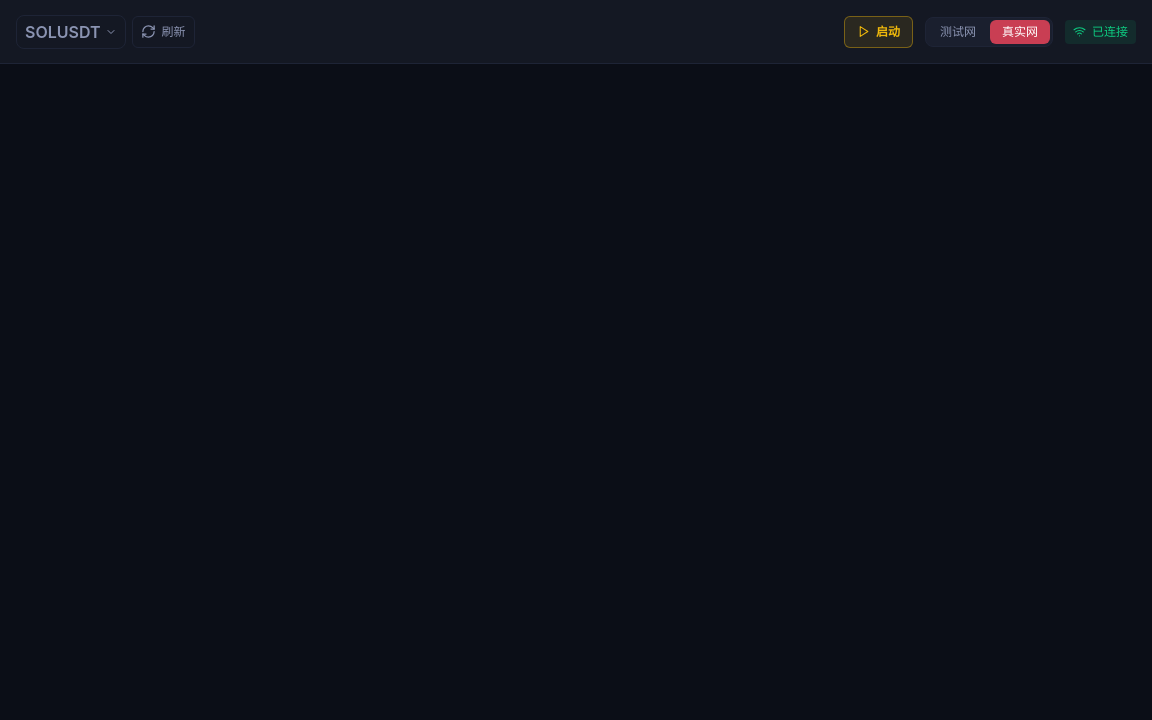
Scenario: Header network controls › requires the exact symbol-scoped confirmation on mainnet
Click the button with aria-label "启动策略" at x=878, y=32, box [844,16,913,48]
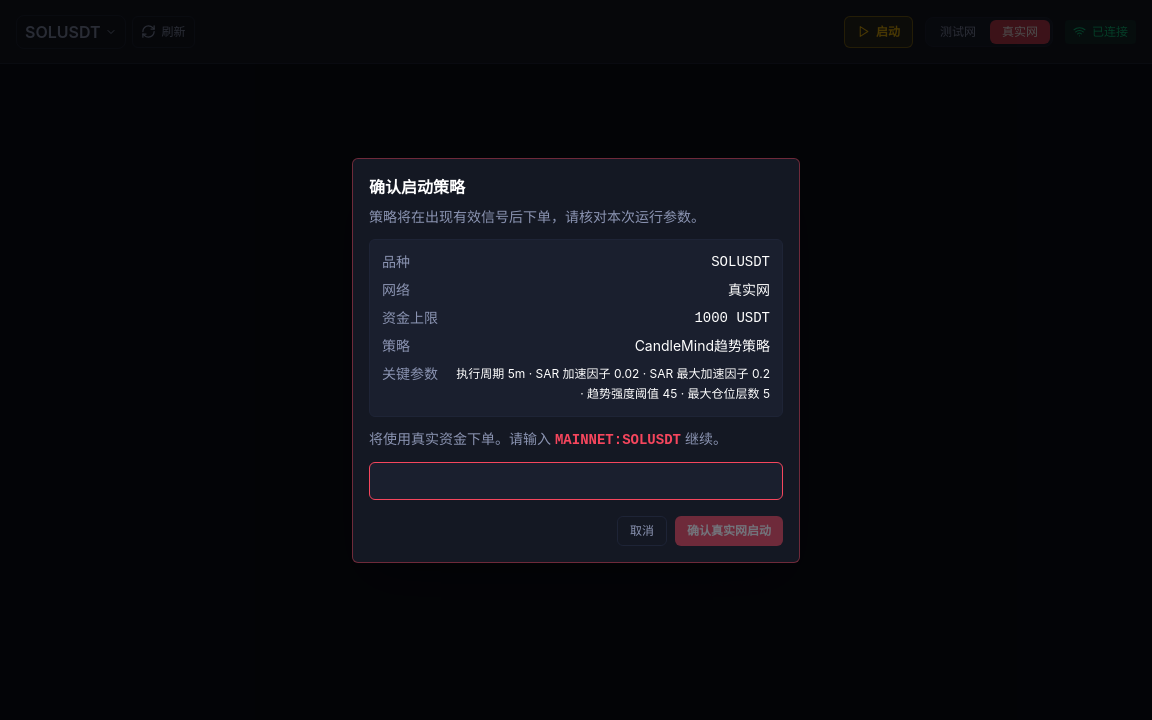
Type "MAINNET:BTCUSDT" into the field named "真实网确认文本" at x=576, y=480, box [369,462,783,500]
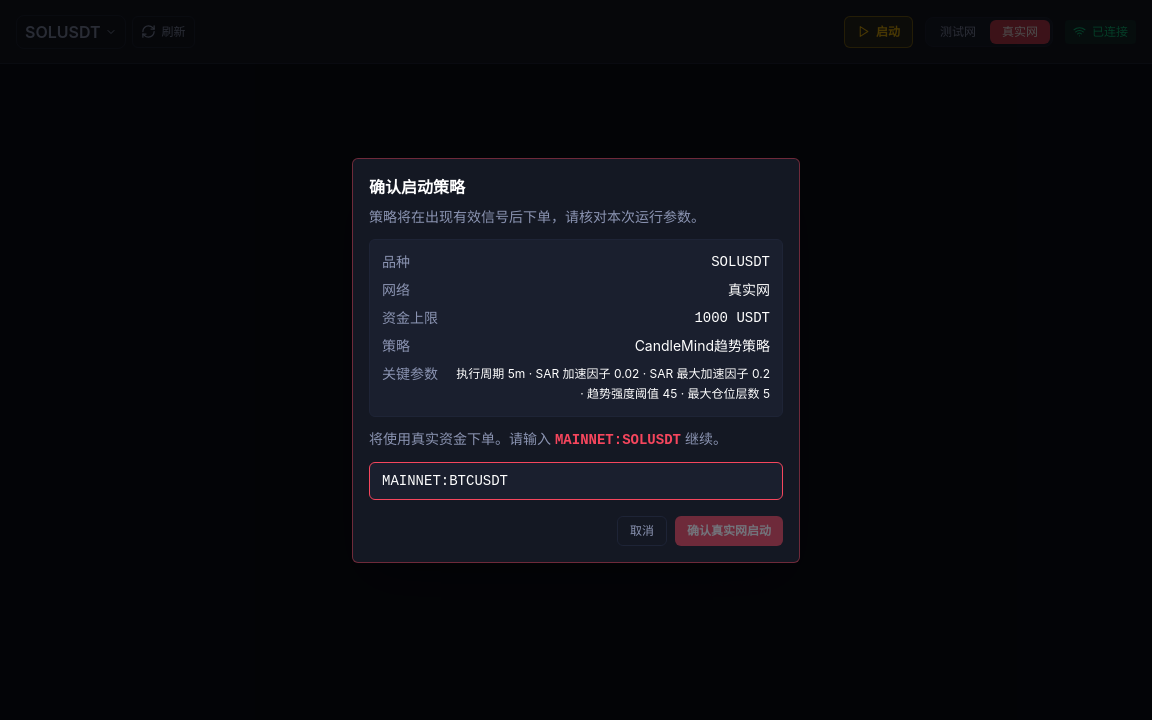
Expected: the button "确认真实网启动" is disabled, [675,516,783,546]
Replace the text in the field named "真实网确认文本" with "MAINNET:SOLUSDT" at x=576, y=480, box [369,462,783,500]
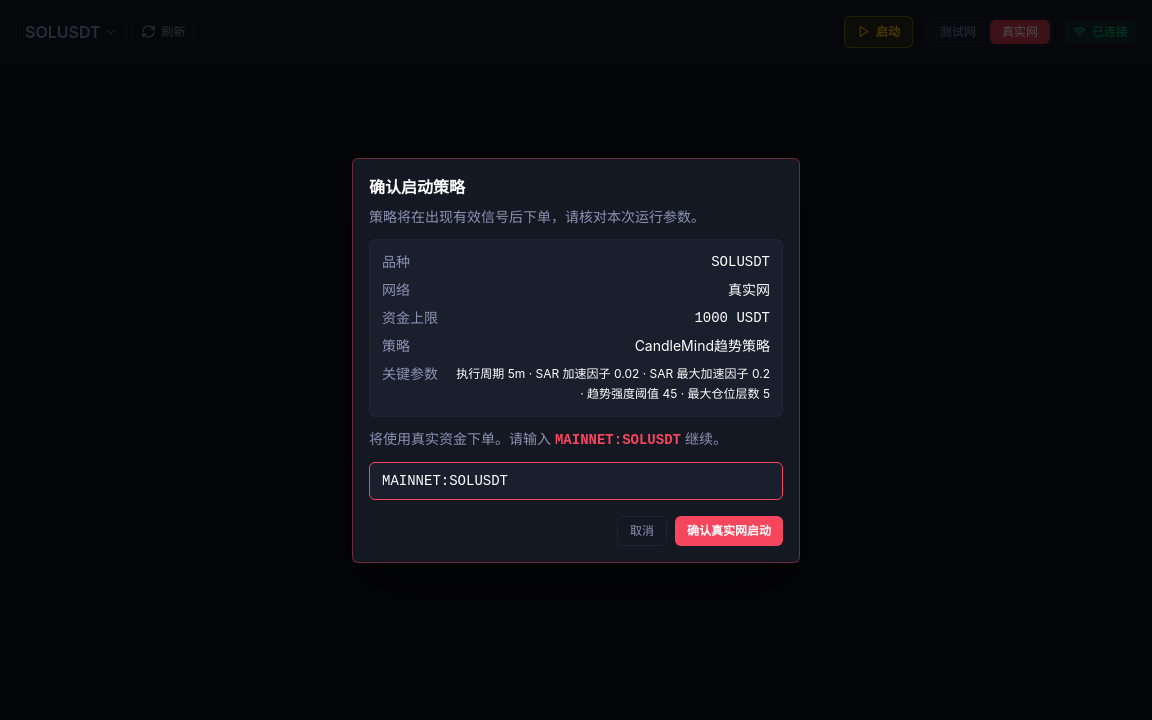
Click the button "确认真实网启动" at x=729, y=530, box [675,516,783,546]
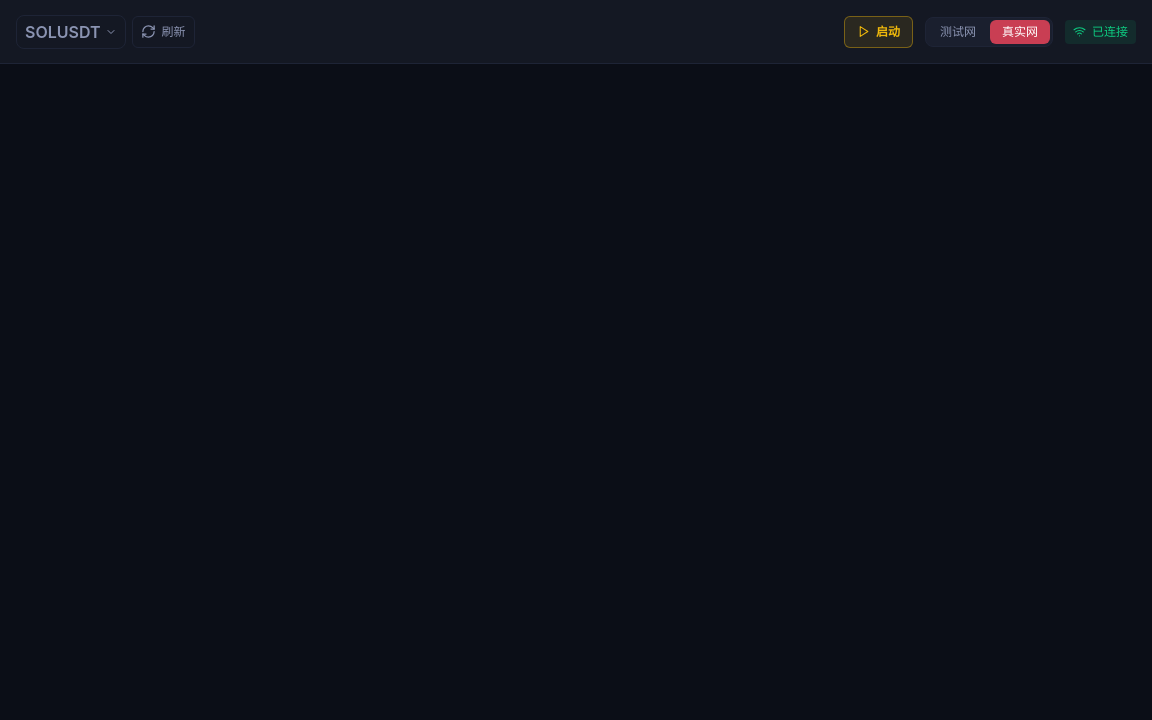
Expected: the dialog is gone
